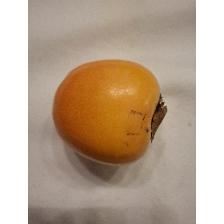Kaki: (50, 56, 170, 168)
